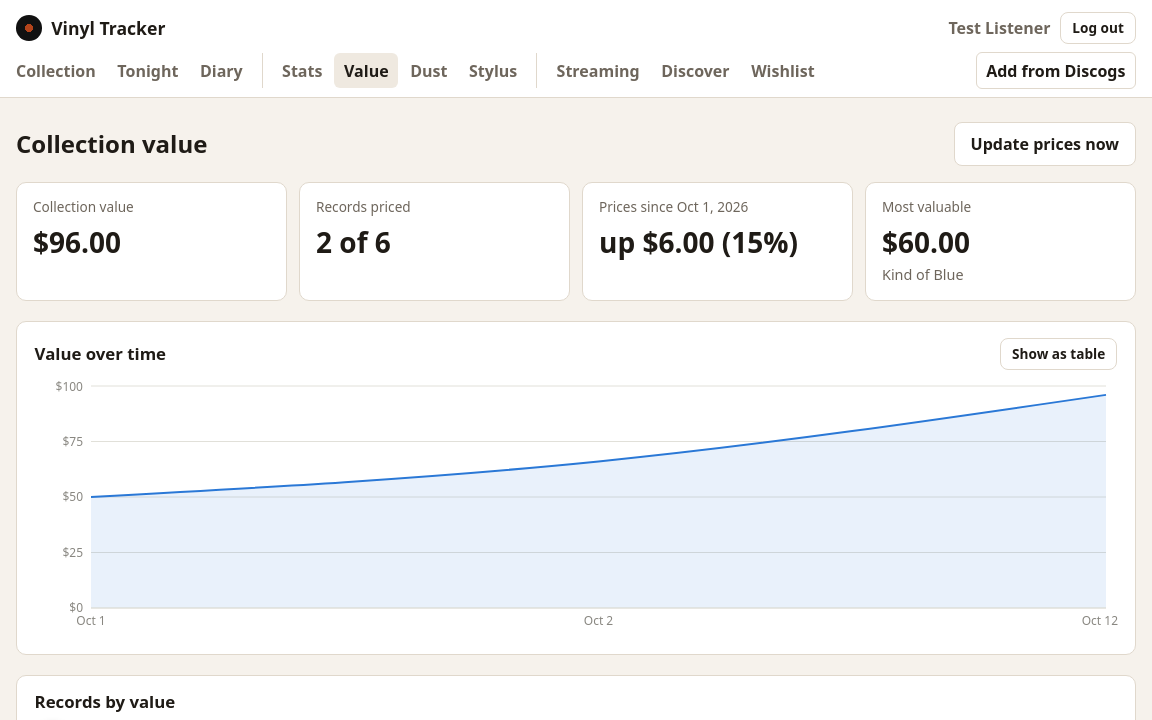
ValuePage › says when prices were already up to date, or could not be updated
Click the button "Update prices now" at [1045, 144], box top-left (954, 122), bottom-right (1136, 166)
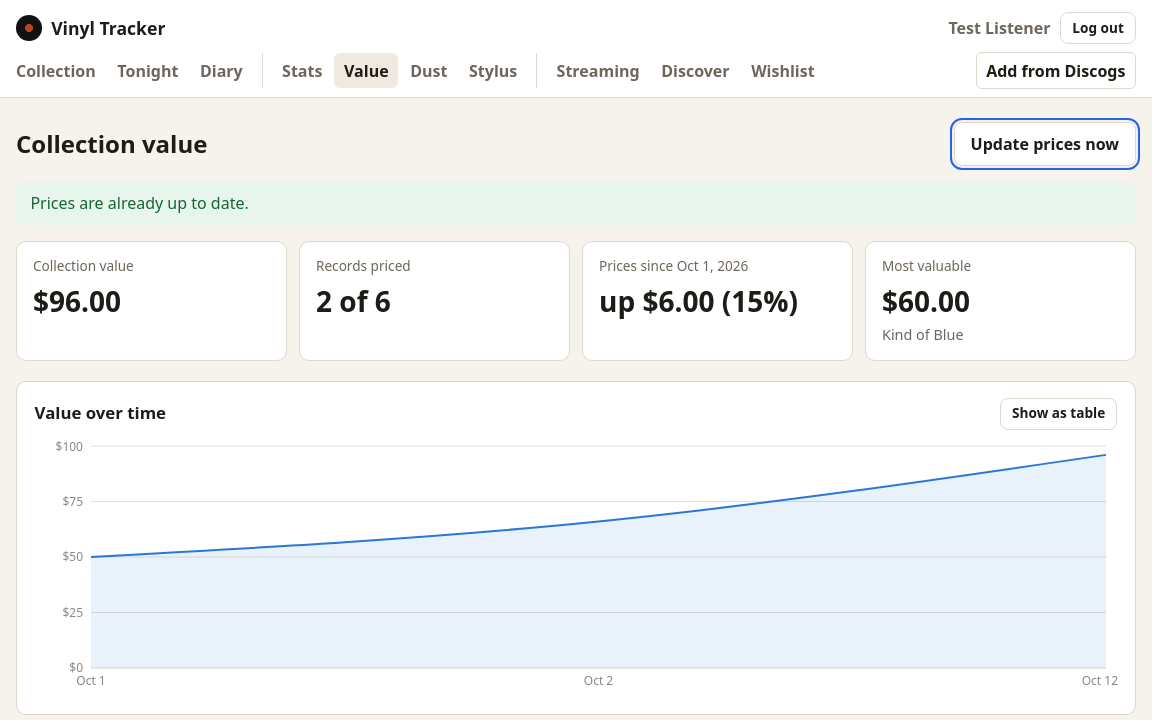
Now the message reads "Prices are already up to date.", box top-left (30, 192), bottom-right (249, 214)
Click the button "Update prices now" at [1045, 144], box top-left (954, 122), bottom-right (1136, 166)
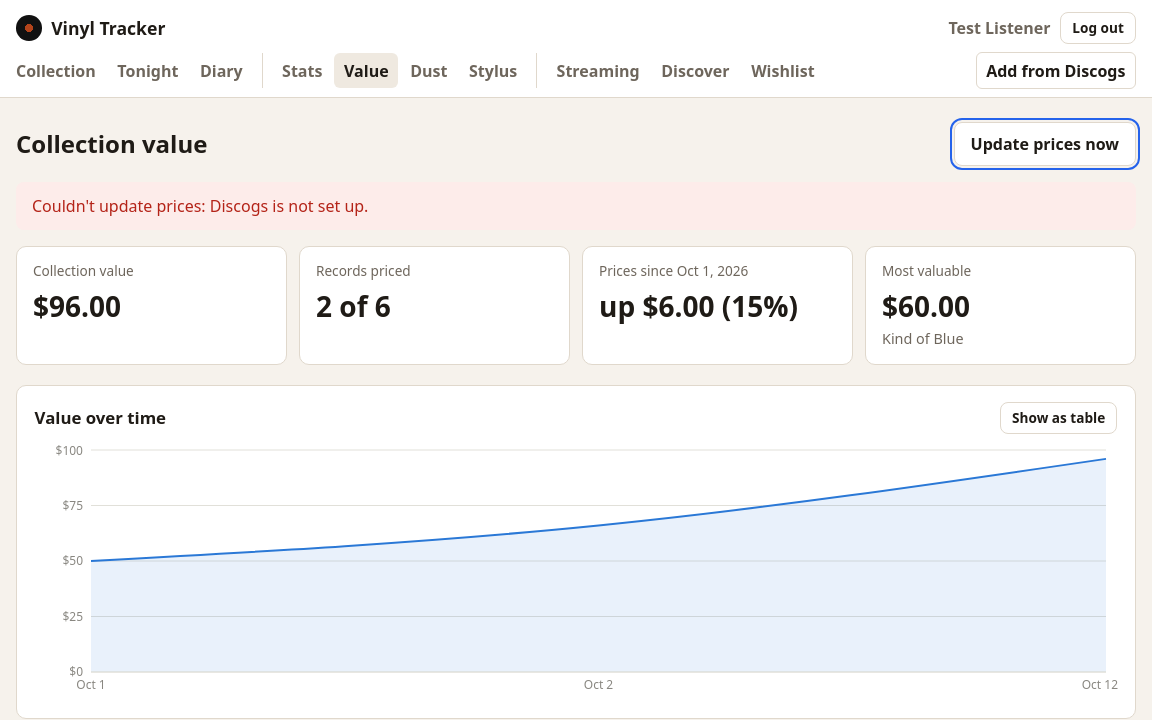
Now the message shows "Discogs is not set up.", box top-left (210, 195), bottom-right (368, 217)
